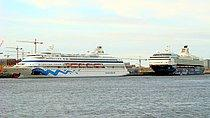Ship: (6, 44, 136, 83)
